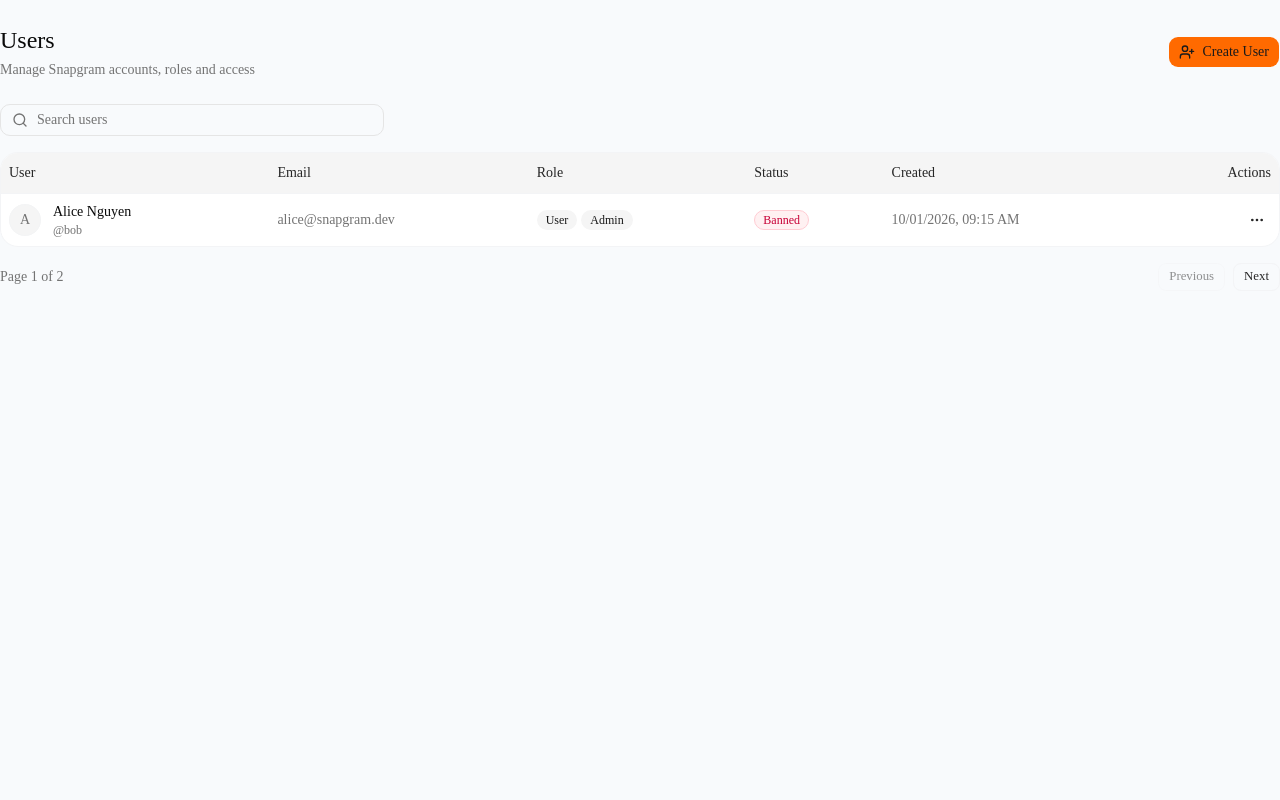
Test: UsersPageContent › unbans a banned user through the confirm dialog
Step 1. Click the button named "Actions" → click(1257, 220), box [1243,206,1271,234]
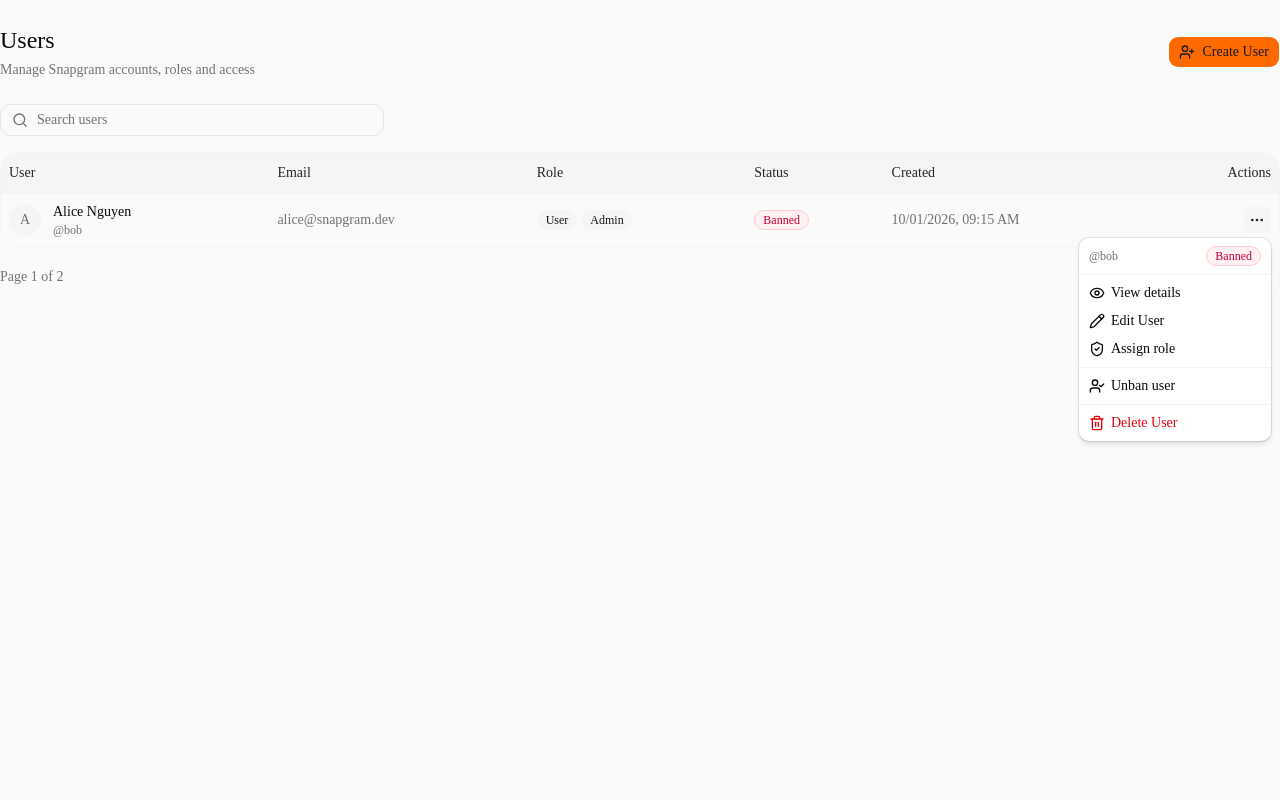
Step 2. Click the menu item "Unban user" → click(1132, 386), box [1089,378,1175,394]
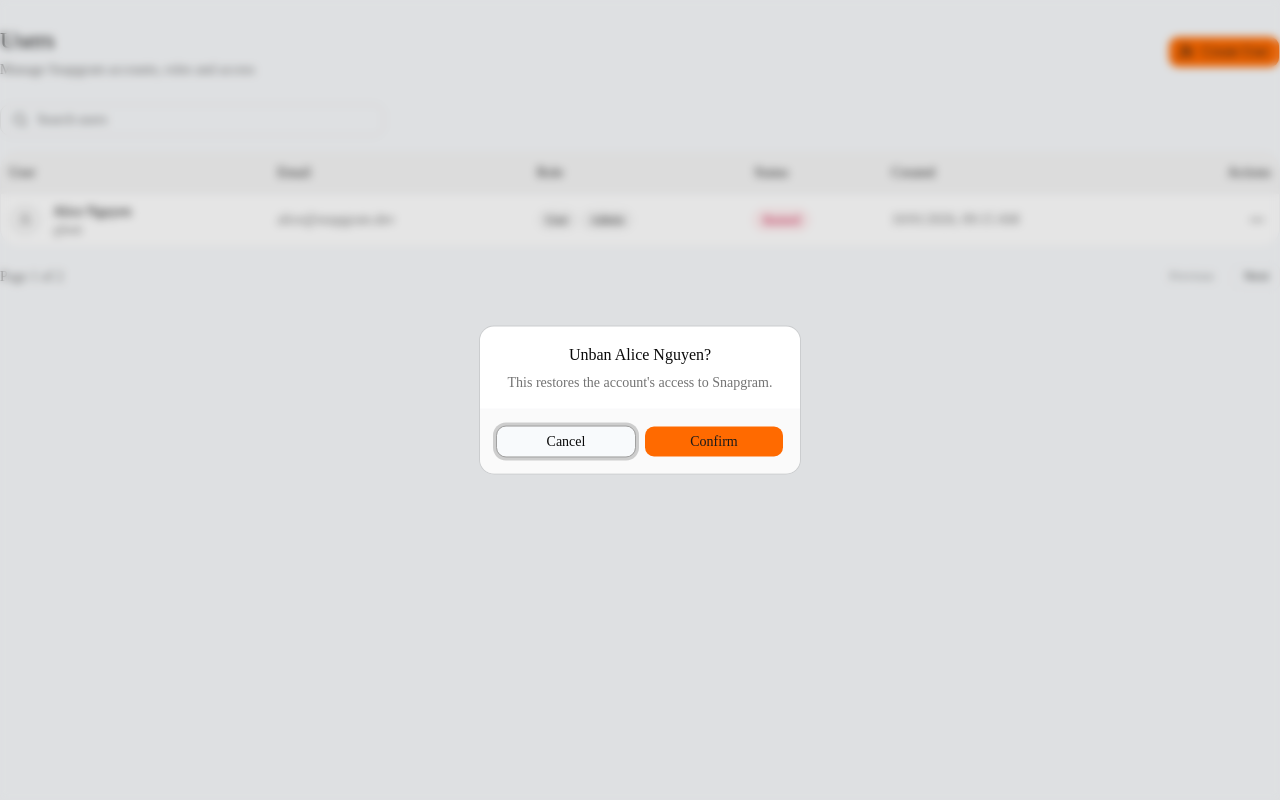
Now the heading "Unban Alice Nguyen?" is shown, box [569,342,711,366]
Step 3. Click the button "Confirm" → click(714, 442), box [644,426,784,458]
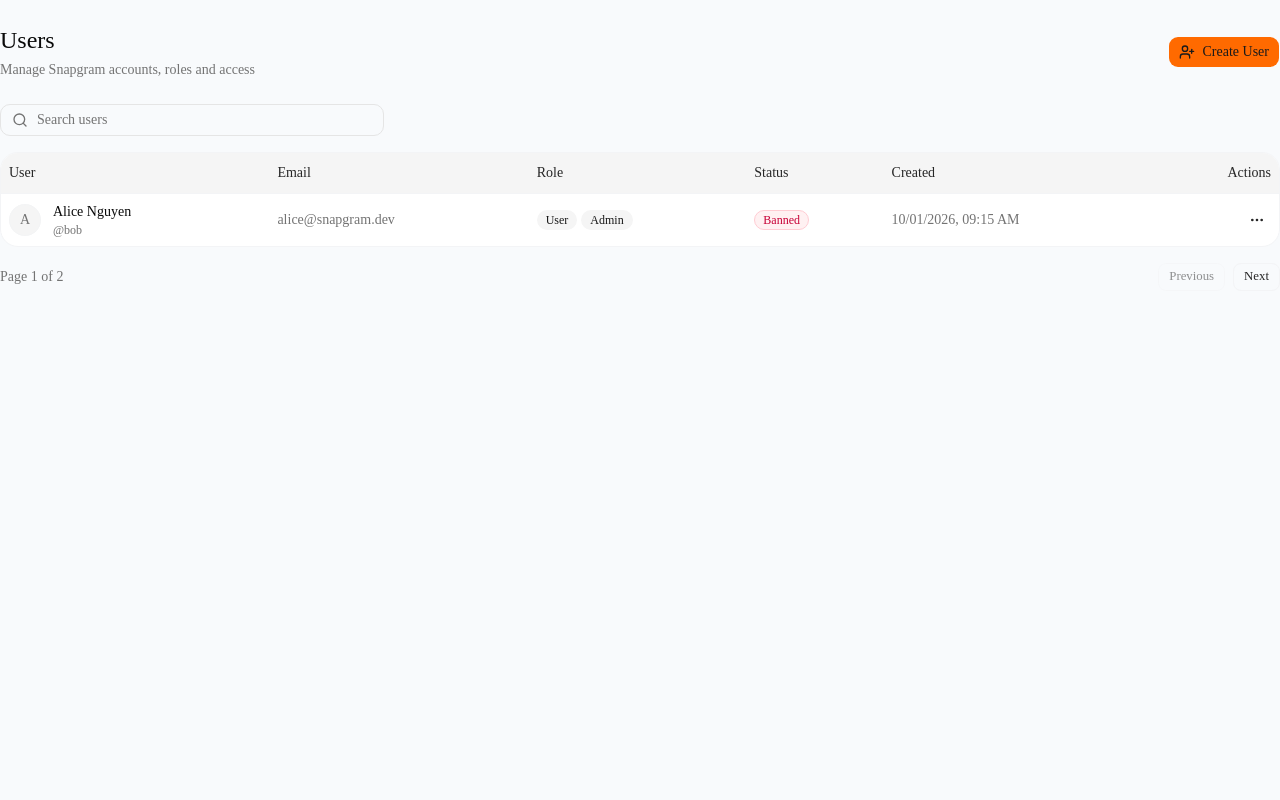
Now the dialog is gone
